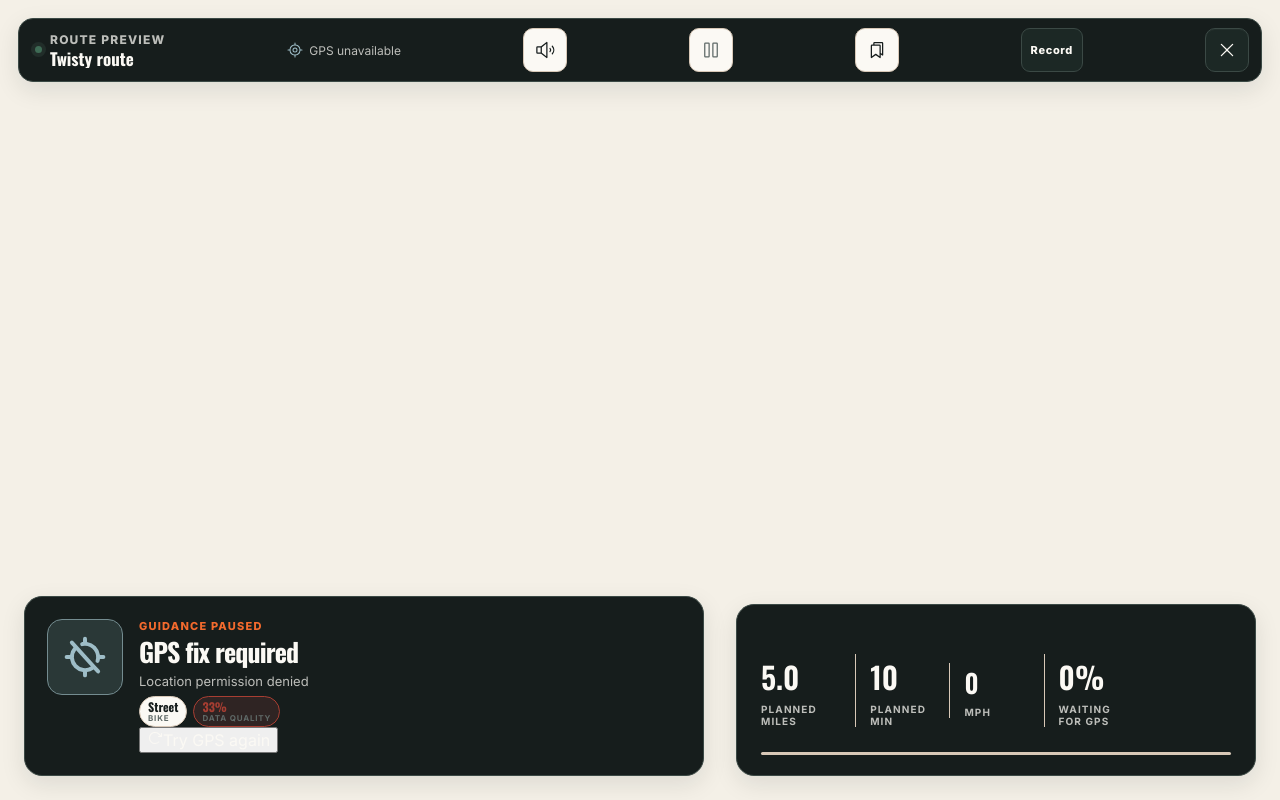
ride HUD GPS safety › gives the rider a one-tap voice guidance control
Click the button named "Mute voice guidance": {"x": 545, "y": 50} [523,28,567,72]
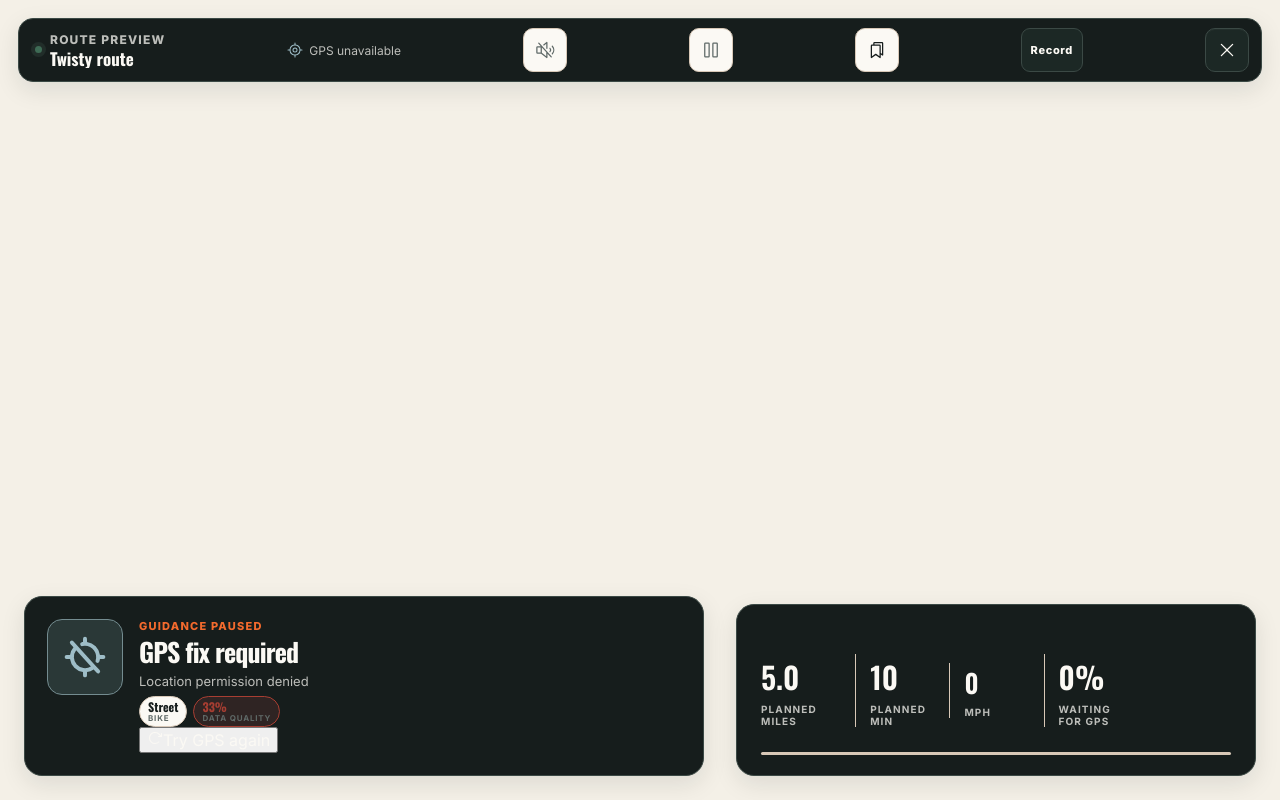
Now the button named "Enable voice guidance" is shown, box [523,28,567,72]
